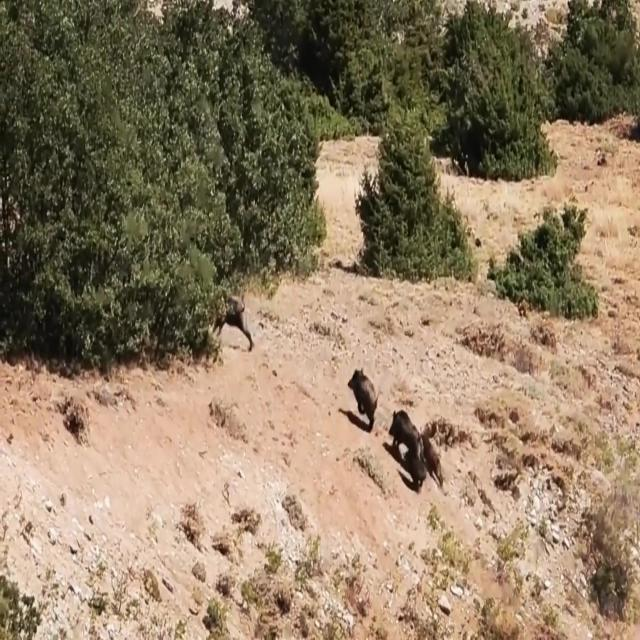pig: (340, 348, 388, 422), (394, 389, 432, 471)
